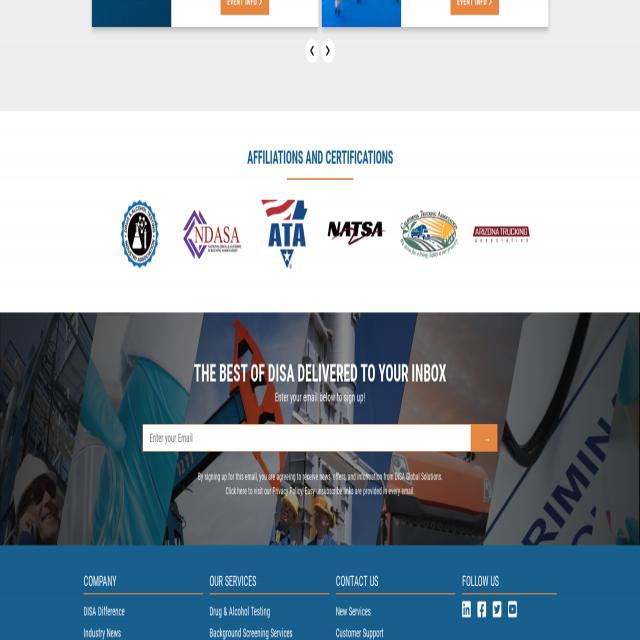button: (176, 197, 246, 275), (256, 189, 314, 281), (396, 204, 465, 272), (320, 202, 388, 266), (116, 193, 164, 278), (471, 212, 536, 263), (220, 0, 269, 15), (450, 0, 498, 15), (471, 425, 497, 451), (321, 38, 335, 62), (306, 39, 319, 64), (492, 601, 502, 618), (477, 601, 486, 618), (508, 601, 517, 618), (462, 601, 471, 618)
field: (142, 424, 470, 452)
